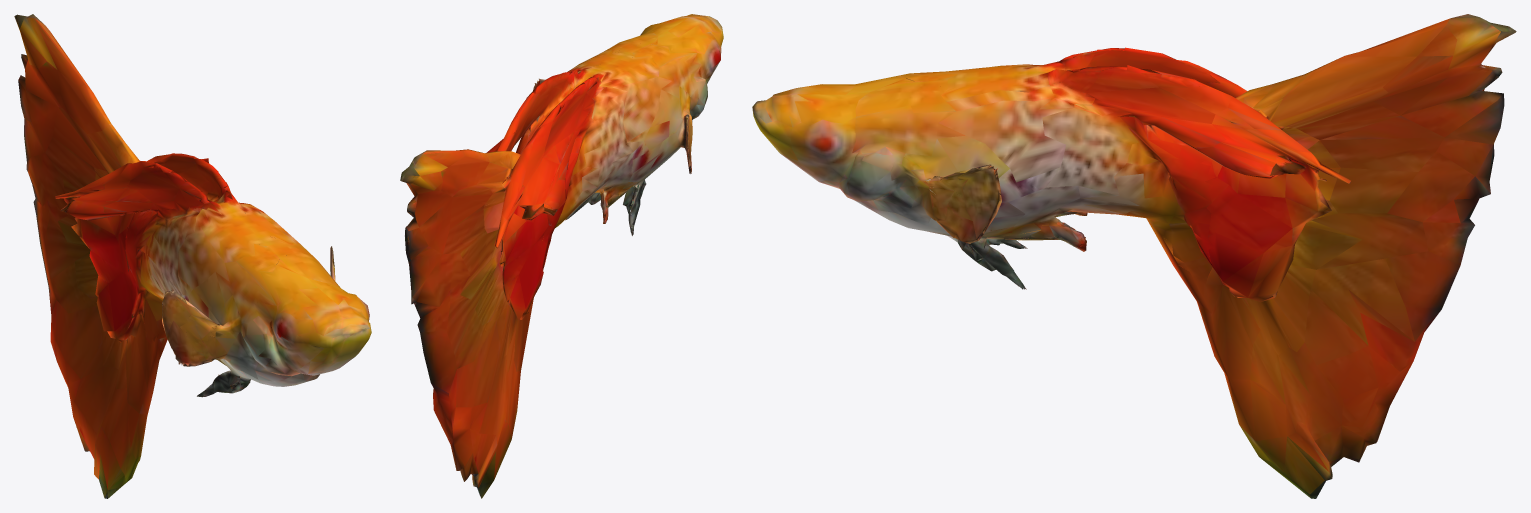
The model's file is strain-albino_red.lo.glb.
The picture shows the model from 3 angles, left to right: view 1: azimuth 30°, elevation 25°; view 2: azimuth 150°, elevation 25°; view 3: azimuth 270°, elevation 25°; orthographic projection. The views are drawn at different scales.
Visible parts, largest first — view 1: Mesh_0.001; view 2: Mesh_0.001; view 3: Mesh_0.001.
Boxes of the visible parts, x1,y1,x2,y2 form: Mesh_0.001: [14, 14, 371, 498]; Mesh_0.001: [400, 14, 723, 498]; Mesh_0.001: [752, 14, 1516, 498].
Bounding box in the file's own units: 0.0107 × 0.0256 × 0.0367.
2 materials, 2 textured.
